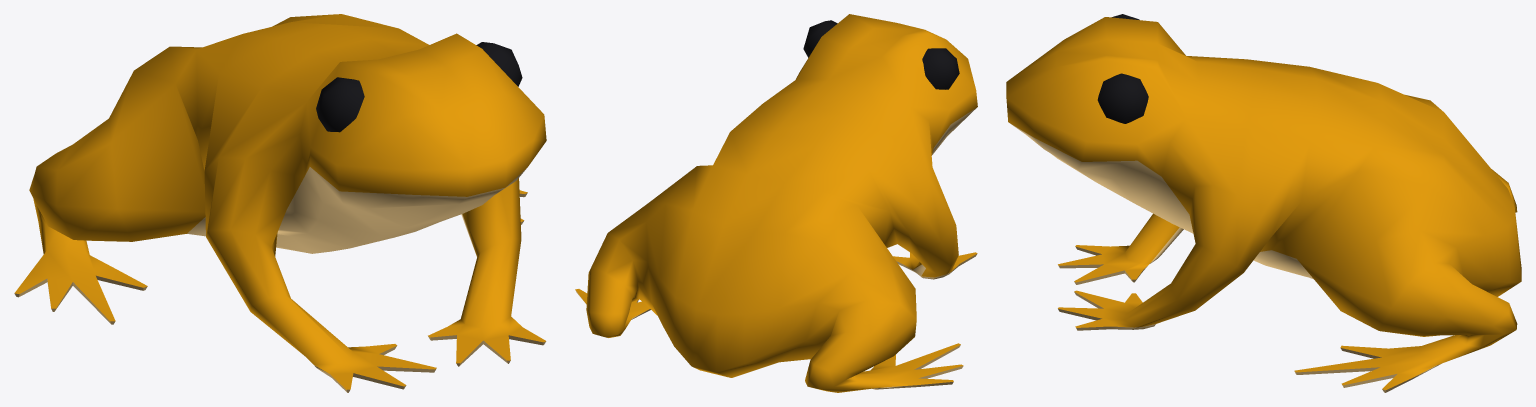
Rendered from Frog_3.gltf.
The picture shows the model from 3 angles, left to right: view 1: azimuth 30°, elevation 25°; view 2: azimuth 150°, elevation 25°; view 3: azimuth 270°, elevation 25°; orthographic projection. The views are drawn at different scales.
Parts seen in each view (by area): view 1: Frog_3; view 2: Frog_3; view 3: Frog_3.
Boxes of the visible parts, box(x1,y1,x2,y2) form: Frog_3: box(14, 14, 546, 392); Frog_3: box(575, 14, 977, 392); Frog_3: box(1006, 14, 1521, 392).
Size of the model in its own units: 22.65 by 12.78 by 23.74.
1 material, 1 textured.
